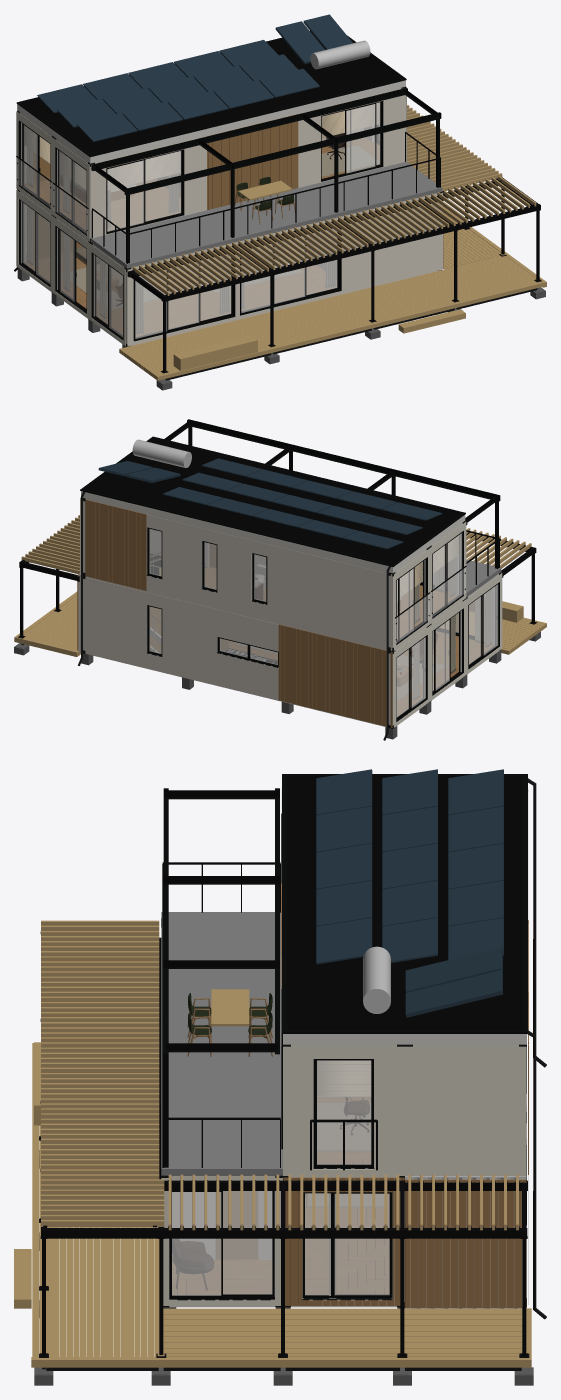
The model's file is house-redesigned-v2.glb.
3 views of the same model, one above another, from view 1: azimuth 30°, elevation 25°; view 2: azimuth 150°, elevation 25°; view 3: azimuth 270°, elevation 25° (orthographic). The views are drawn at different scales.
Parts seen in each view (by area): view 1: INST_Deck_Plank, PV_Array_15x420W, TR_Pavers, RF_UpperRoof_BuildUp, V18_Exterior_Continuous_White_C3_South, V18_Exterior_Continuous_White_C5_South, V17_GF_Physical_Herringbone_Parquet, V18_Exterior_Oak_Accent_C5_South, V20_KLIL_W04_Double_Glass, V20_KLIL_W01a_Double_Glass, V20_KLIL_W01b_Double_Glass, SWH_SolarWaterHeater (+47 smaller); view 2: V18_Exterior_Continuous_White_C4_North, V18_Exterior_Continuous_White_C1_North, RF_UpperRoof_BuildUp, V18_Exterior_Oak_Accent_C1_North, PV_Array_15x420W, V18_Exterior_Oak_Accent_C4_North, V19_White_Roof_Fascia, RF_Capping, SWH_SolarWaterHeater, V17_GF_Physical_Herringbone_Parquet, C1, V20_KLIL_W02_C1_Double_Glass (+36 smaller); view 3: PV_Array_15x420W, TR_Pavers, RF_UpperRoof_BuildUp, INST_Entry_Deck_Plank, INST_Deck_Plank, V18_Exterior_Continuous_White_C4_East, V18_Exterior_Oak_Accent_D02_Overclad_East_East, V18_Exterior_Continuous_White_C5_East, V20_KLIL_W09_Double_Glass, V17_GF_Physical_Herringbone_Parquet, V20_KLIL_D01_Double_Glass, SWH_SolarWaterHeater (+38 smaller).
Part boxes in pixels (x1,y1,x2,y2): INST_Deck_Plank: [119, 256, 542, 380]; PV_Array_15x420W: [37, 40, 319, 141]; TR_Pavers: [90, 161, 442, 268]; RF_UpperRoof_BuildUp: [21, 32, 401, 154]; V18_Exterior_Continuous_White_C3_South: [127, 193, 442, 346]; V18_Exterior_Continuous_White_C5_South: [91, 95, 406, 238]; V17_GF_Physical_Herringbone_Parquet: [24, 233, 336, 336]; V18_Exterior_Oak_Accent_C5_South: [207, 114, 298, 210]; V20_KLIL_W04_Double_Glass: [107, 151, 180, 231]; V20_KLIL_W01a_Double_Glass: [135, 254, 231, 338]; V20_KLIL_W01b_Double_Glass: [241, 228, 337, 312]; SWH_SolarWaterHeater: [275, 14, 370, 69]; V18_Exterior_Continuous_White_C4_North: [146, 514, 392, 650]; V18_Exterior_Continuous_White_C1_North: [80, 576, 278, 700]; RF_UpperRoof_BuildUp: [85, 438, 461, 564]; V18_Exterior_Oak_Accent_C1_North: [278, 624, 392, 727]; PV_Array_15x420W: [163, 458, 442, 549]; V18_Exterior_Oak_Accent_C4_North: [80, 498, 146, 590]; V19_White_Roof_Fascia: [81, 491, 465, 573]; RF_Capping: [80, 436, 465, 566]; SWH_SolarWaterHeater: [98, 439, 191, 482]; V17_GF_Physical_Herringbone_Parquet: [150, 607, 493, 716]; C1: [83, 558, 427, 727]; V20_KLIL_W02_C1_Double_Glass: [396, 637, 425, 717]; PV_Array_15x420W: [316, 769, 503, 964]; TR_Pavers: [161, 912, 282, 1175]; RF_UpperRoof_BuildUp: [287, 776, 522, 1029]; INST_Entry_Deck_Plank: [163, 1308, 526, 1356]; INST_Deck_Plank: [32, 1043, 159, 1356]; V18_Exterior_Continuous_White_C4_East: [405, 1046, 526, 1175]; V18_Exterior_Oak_Accent_D02_Overclad_East_East: [405, 1179, 526, 1307]; V18_Exterior_Continuous_White_C5_East: [283, 1046, 404, 1175]; V20_KLIL_W09_Double_Glass: [172, 1191, 272, 1295]; V17_GF_Physical_Herringbone_Parquet: [172, 1194, 389, 1294]; V20_KLIL_D01_Double_Glass: [305, 1193, 389, 1295]; SWH_SolarWaterHeater: [363, 946, 502, 1017].
Bounding box in the file's own units: 15.04 × 7.38 × 10.67.
